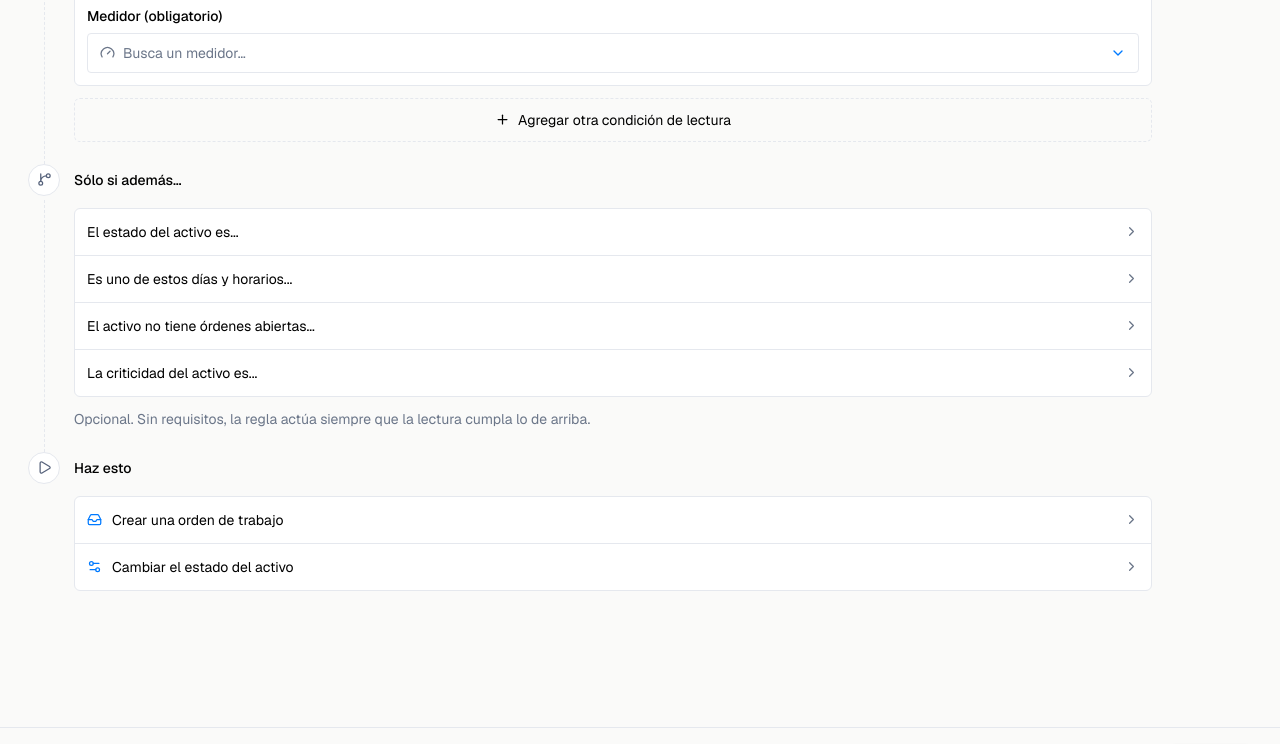
AutomatizacionCrearPanel — varias acciones › solo deja plegar una vez que la OT tiene título
This screenshot has width=1280, height=744.
(page scrolled)
Click the button with aria-label "Agregar acción: Crear una orden de trabajo". click: coordinates (198, 520)
box: [75,497,1151,543]
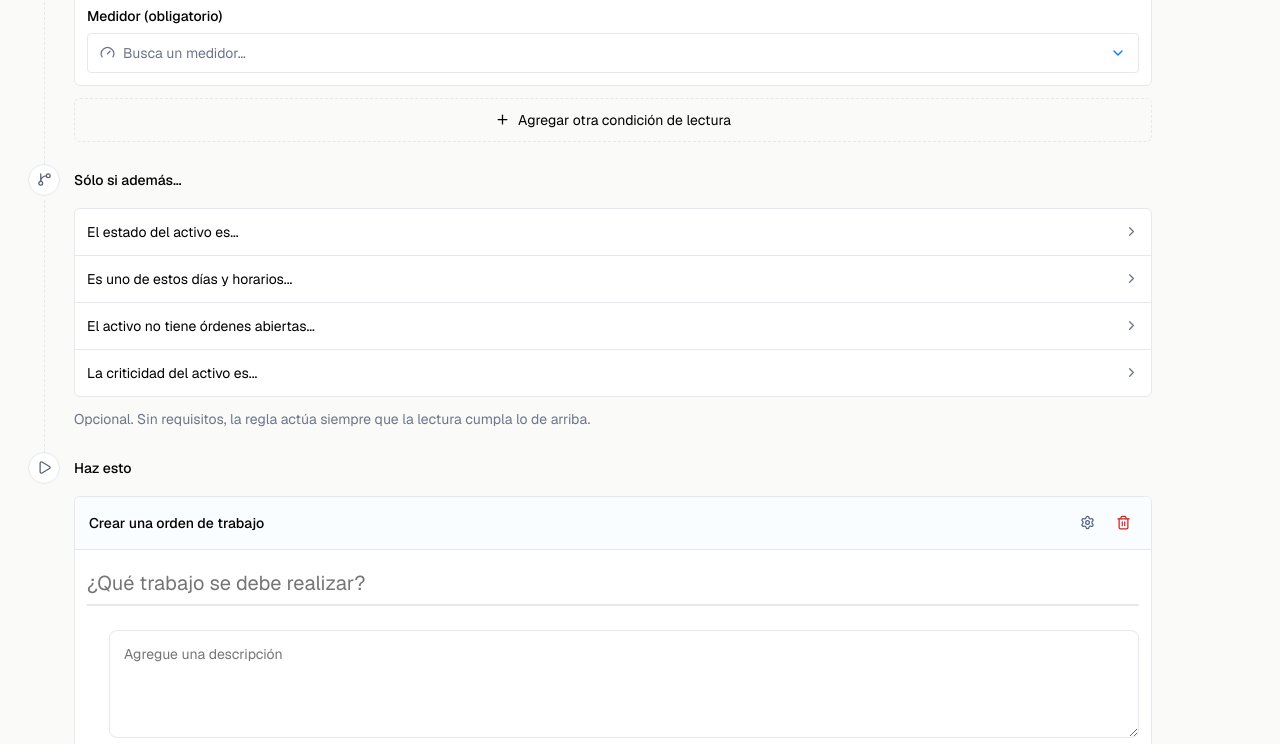
Type "Revisar bomba" into the field with placeholder "¿Qué trabajo se debe realizar?". click: coordinates (613, 584)
box: [87,562,1139,606]
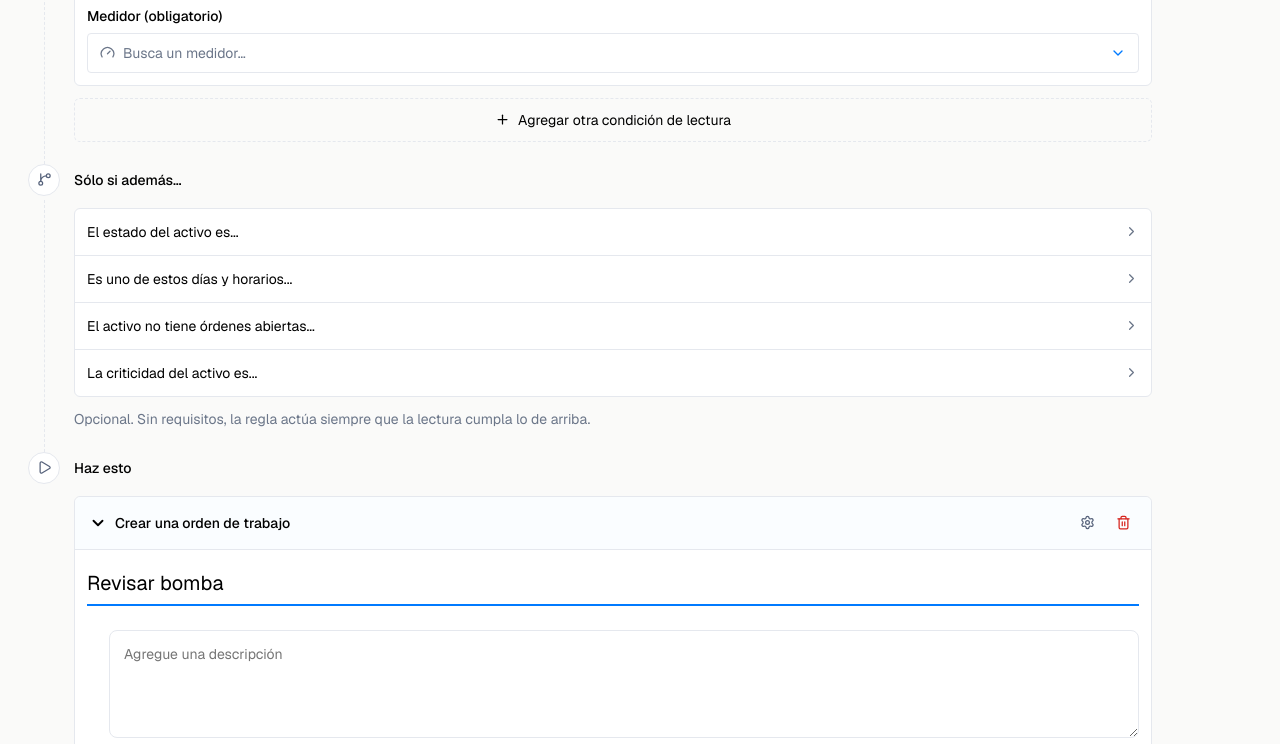
Click the button named "Plegar". click: coordinates (98, 523)
box: [89,514,107,532]
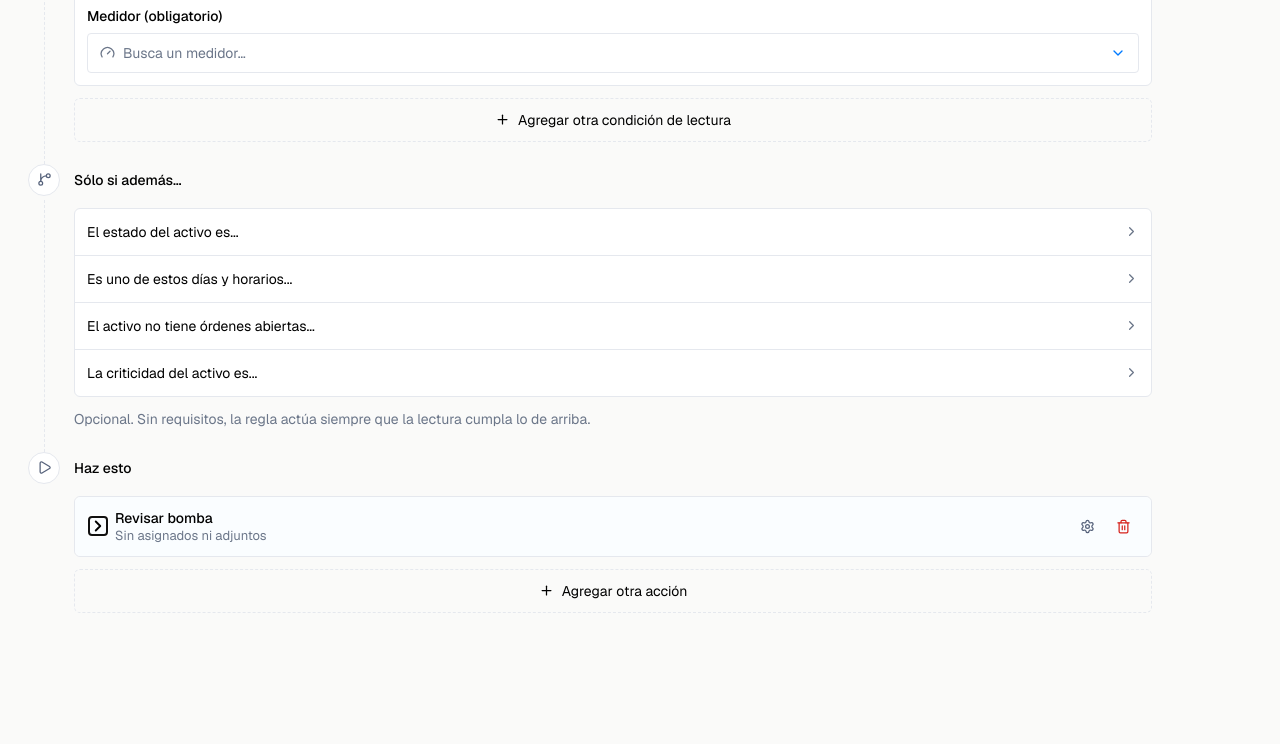
Check: the text "Revisar bomba" is shown, box [115,509,213,527]
